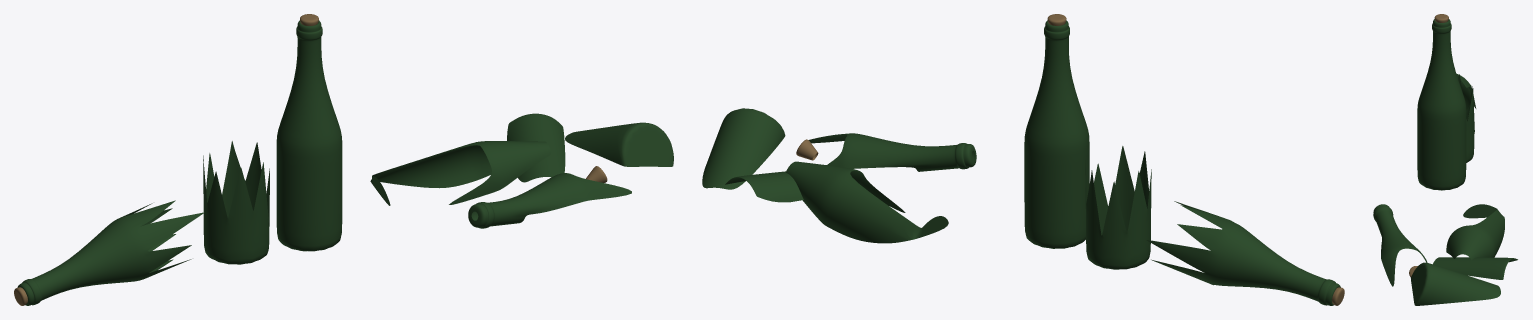
Rendered from flaska.fbx.
The picture shows the model from 3 angles, left to right: view 1: azimuth 30°, elevation 25°; view 2: azimuth 150°, elevation 25°; view 3: azimuth 270°, elevation 25°; orthographic projection. The views are drawn at different scales.
Visible parts, largest first — view 1: Circle.001, Circle.007, Circle.008, Circle.006, Circle.002, Circle.004, Circle.005; view 2: Circle.001, Circle.007, Circle.006, Circle.008, Circle.004, Circle.002, Circle.005; view 3: Circle.001, Circle.004, Circle.006, Circle.002, Circle.005, Circle.008, Circle.007.
Part boxes in pixels (box(x1,y1,x2,y2)): Circle.001: box(276, 14, 342, 251); Circle.007: box(14, 200, 204, 305); Circle.008: box(203, 141, 269, 264); Circle.006: box(370, 141, 551, 205); Circle.002: box(468, 173, 631, 228); Circle.004: box(565, 122, 673, 166); Circle.005: box(507, 113, 565, 182); Circle.001: box(1024, 14, 1089, 248); Circle.007: box(1146, 201, 1344, 305); Circle.006: box(786, 161, 948, 243); Circle.008: box(1085, 146, 1151, 269); Circle.004: box(702, 108, 785, 189); Circle.002: box(809, 133, 976, 171); Circle.005: box(725, 171, 803, 202); Circle.001: box(1417, 14, 1466, 190); Circle.004: box(1411, 262, 1500, 305); Circle.006: box(1446, 204, 1504, 260); Circle.002: box(1373, 204, 1427, 286); Circle.005: box(1433, 257, 1517, 279); Circle.008: box(1458, 74, 1474, 162); Circle.007: box(1456, 73, 1476, 120).
Bounding box in the file's own units: 1680 × 600 × 444.
